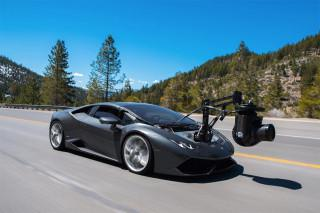car: (44, 88, 249, 182)
